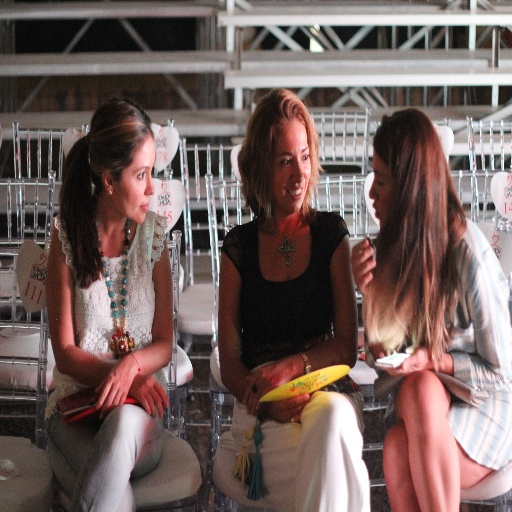hand: (242, 356, 294, 418), (88, 357, 136, 419), (128, 375, 169, 421), (349, 238, 377, 300), (265, 391, 311, 425), (382, 348, 433, 376)
